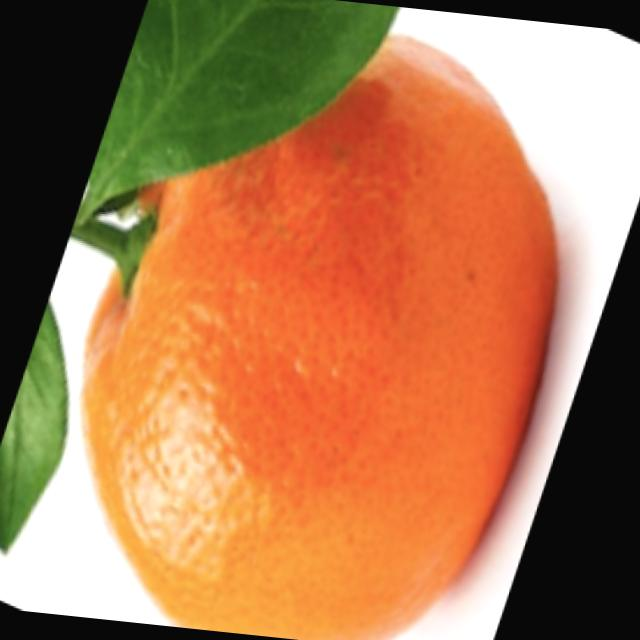orange: (50, 0, 597, 640)
